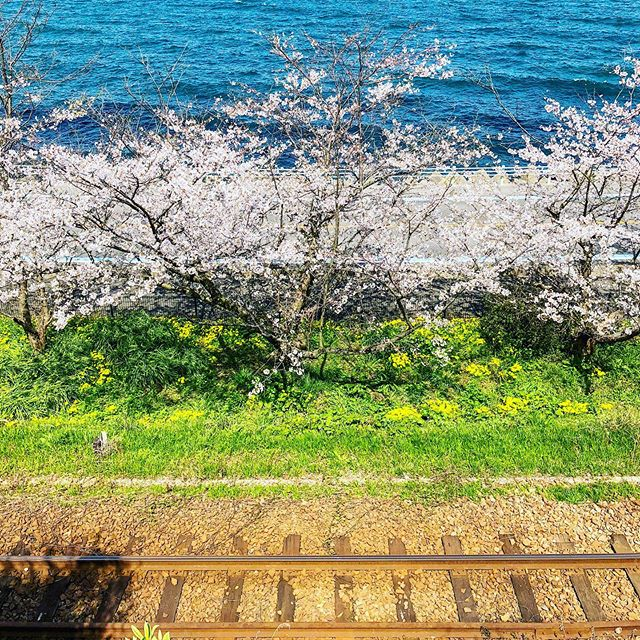grass: (1, 391, 640, 489)
sea: (1, 1, 632, 159)
train track: (1, 482, 640, 640)
tree: (118, 133, 390, 388), (451, 119, 640, 386), (1, 153, 175, 396)
